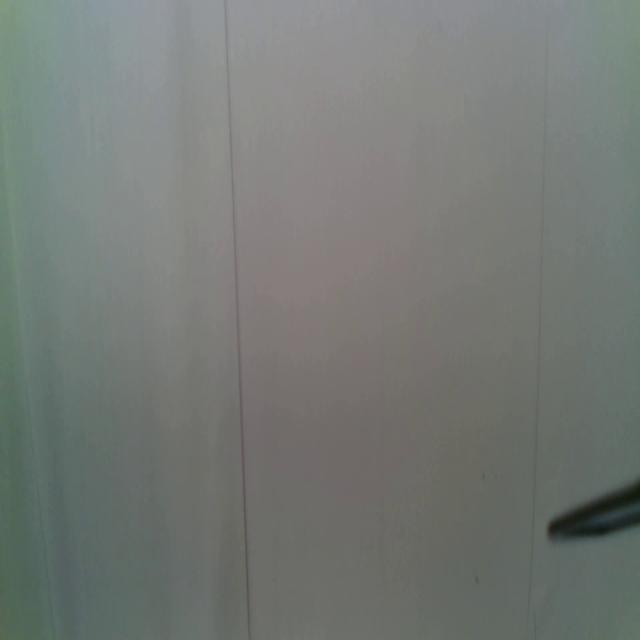crease: (0, 152, 58, 634), (222, 0, 252, 640), (525, 0, 551, 621)
